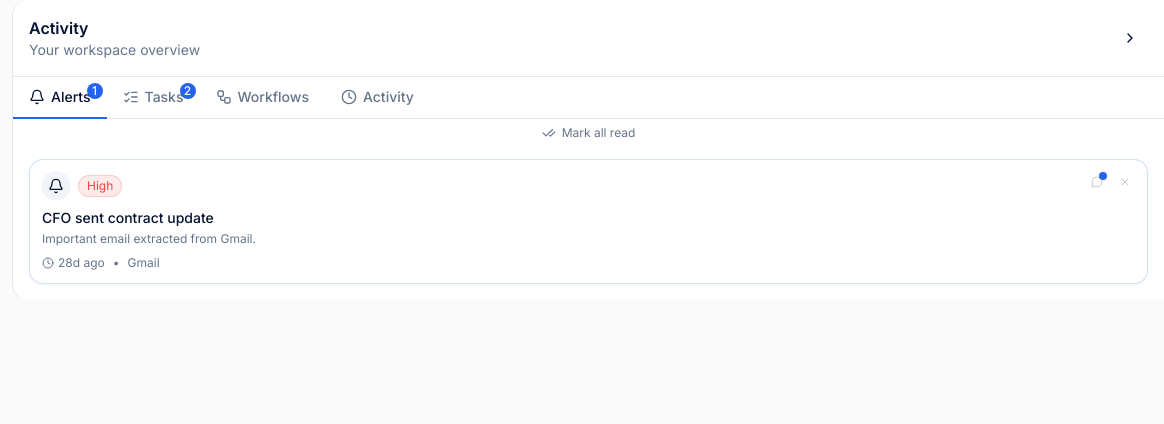
Test case: ContextPanel › routes Gmail and Slack action items to Tasks instead of Alerts
Expected: the text "Budget approval needed" is not shown
Expected: the text "Review launch checklist" is not shown
What coordinates should you click on to do the following:
click the button "Tasks 2"
I would click on:
 (153, 98)
Its box is x1=106 y1=77 x2=200 y2=119.
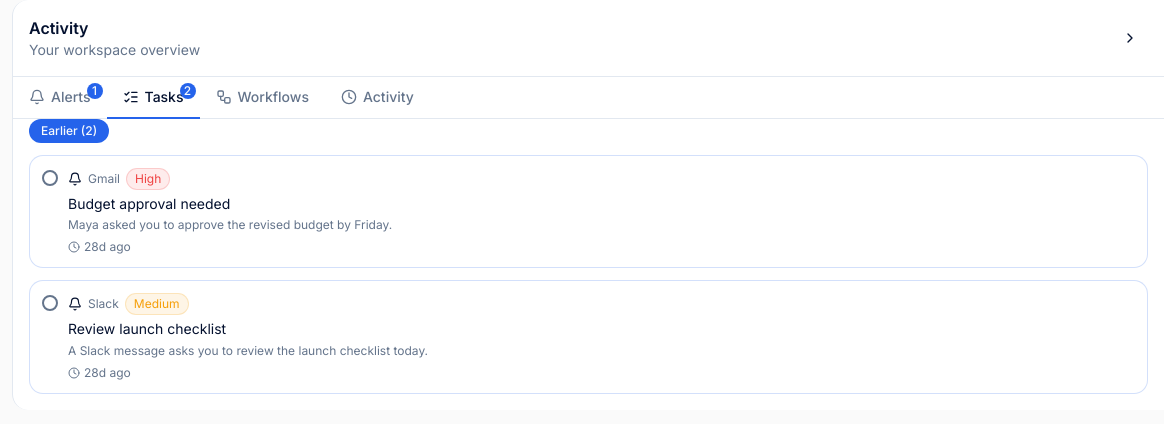
Now the text "Budget approval needed" is shown, box x1=68 y1=195 x2=230 y2=212
Now the text "Review launch checklist" is shown, box x1=68 y1=320 x2=226 y2=337
Now the heading "CFO sent contract update" is gone
